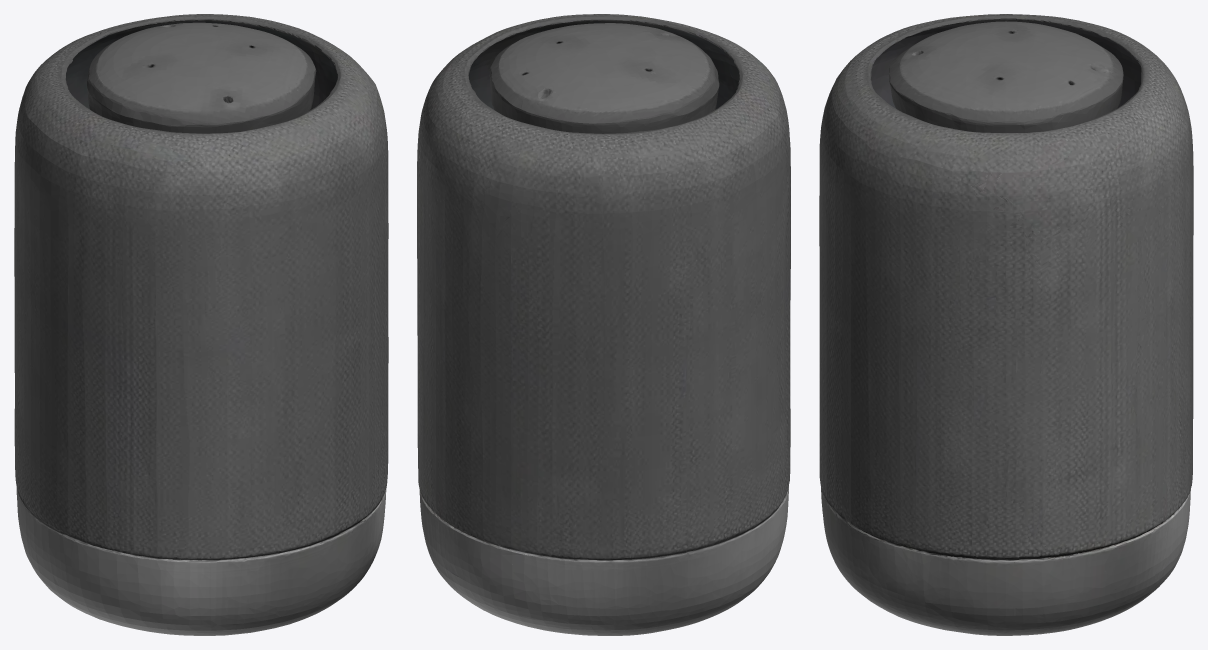
The model's file is bdfd1a6a-8980-4534-8826-d900db8a38fb.glb.
3 renders of one model, left to right at view 1: azimuth 30°, elevation 25°; view 2: azimuth 150°, elevation 25°; view 3: azimuth 270°, elevation 25°, orthographic.
Parts seen in each view (by area): view 1: world; view 2: world; view 3: world.
Part boxes in pixels (x1=…): world: x1=14, y1=14, x2=388, y2=635; world: x1=417, y1=14, x2=790, y2=635; world: x1=819, y1=14, x2=1193, y2=635.
Size of the model in its own units: 0.6509 by 0.9997 by 0.6496.
Materials: 1 (1 with a texture image).
